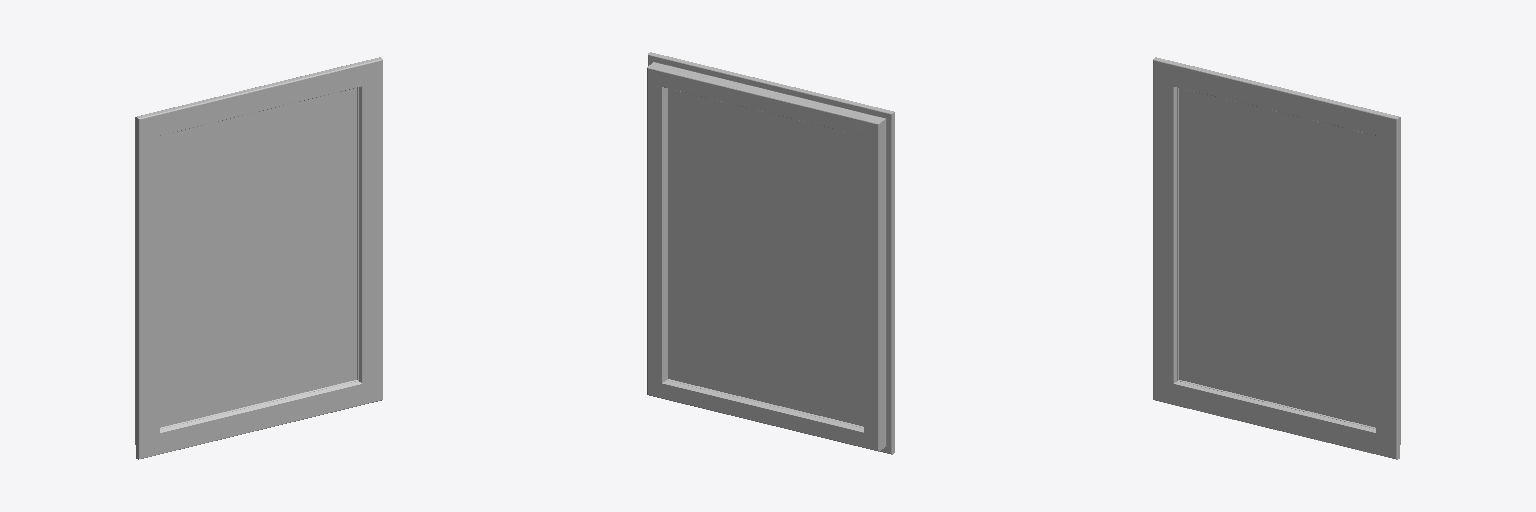
Rendered from window-left.obj.
3 renders of one model, left to right at view 1: azimuth 30°, elevation 25°; view 2: azimuth 150°, elevation 25°; view 3: azimuth 330°, elevation 25°, orthographic.
Parts seen in each view (by area): view 1: polySurface2 group4 group3, group4 group3 file2:obj_04; view 2: polySurface2 group4 group3, group4 group3 file2:obj_04; view 3: polySurface2 group4 group3, group4 group3 file2:obj_04.
Boxes of the visible parts, box(x1,y1,x2,y2) form: polySurface2 group4 group3: box(160, 88, 356, 427); group4 group3 file2:obj_04: box(135, 57, 382, 459); polySurface2 group4 group3: box(668, 89, 863, 426); group4 group3 file2:obj_04: box(647, 52, 894, 454); polySurface2 group4 group3: box(1179, 88, 1375, 427); group4 group3 file2:obj_04: box(1153, 57, 1400, 459).
Size of the model in its own units: 900 by 1200 by 65.8.